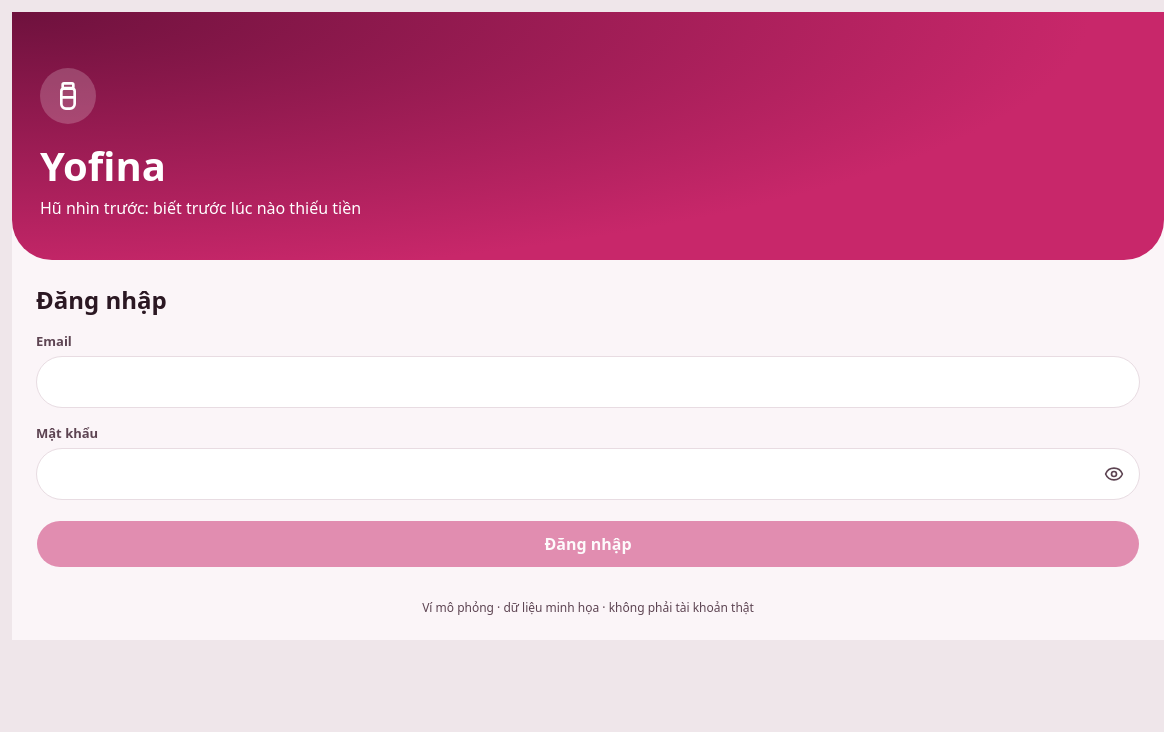
Test case: route guard › đăng nhập xong quay lại trang đã định vào
In the field labelled "Email": point(588, 382) [36,356,1140,408], type "a@example.invalid"
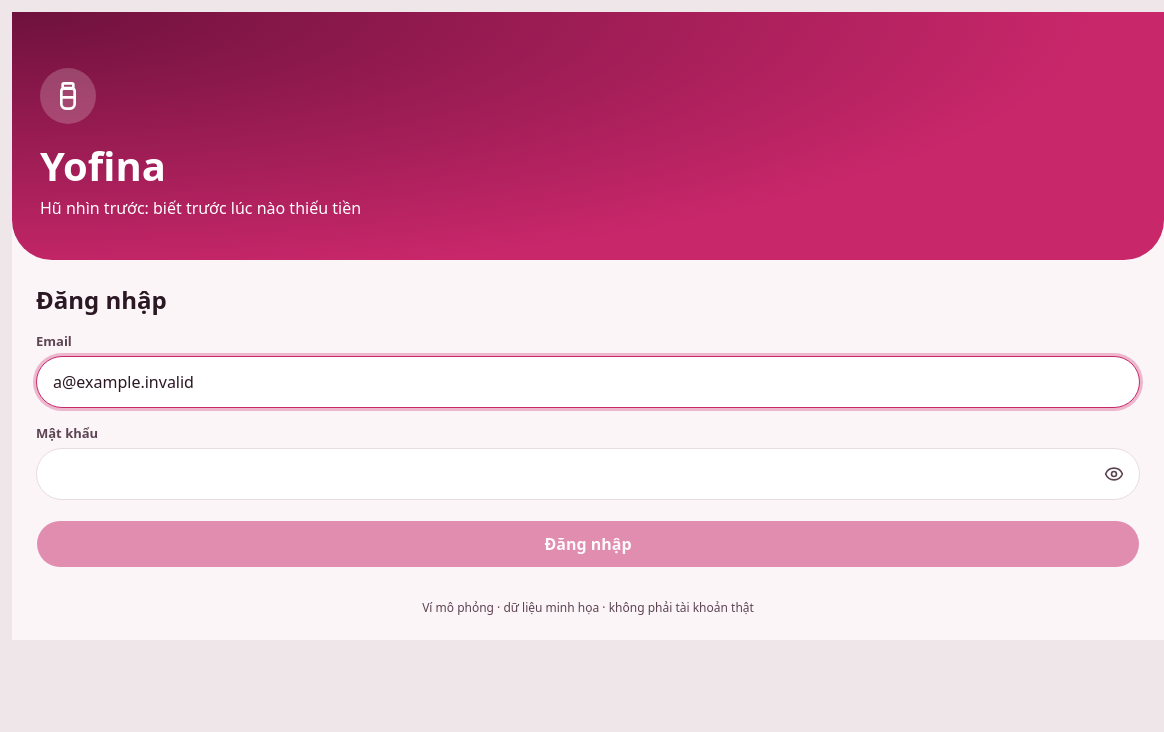
In the password field labelled "Mật khẩu": point(588, 474) [36,448,1140,500], type "mat-khau-test"
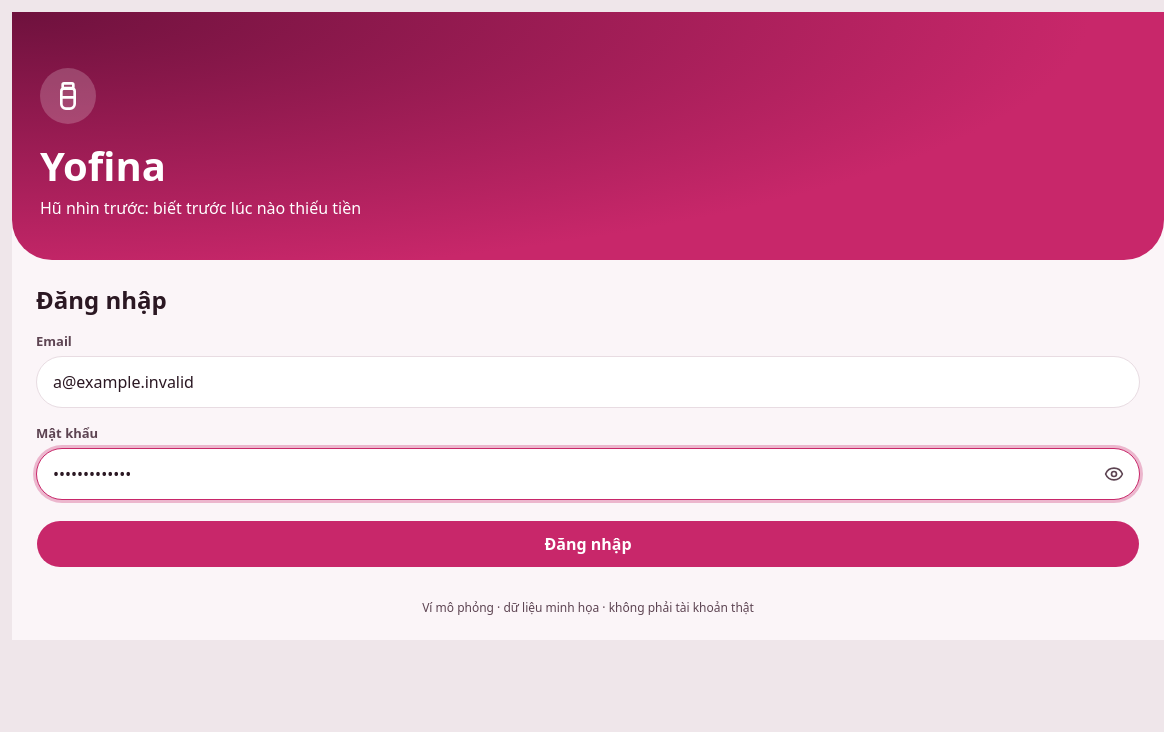
Click the button "Đăng nhập": point(588, 544) [36,520,1140,568]
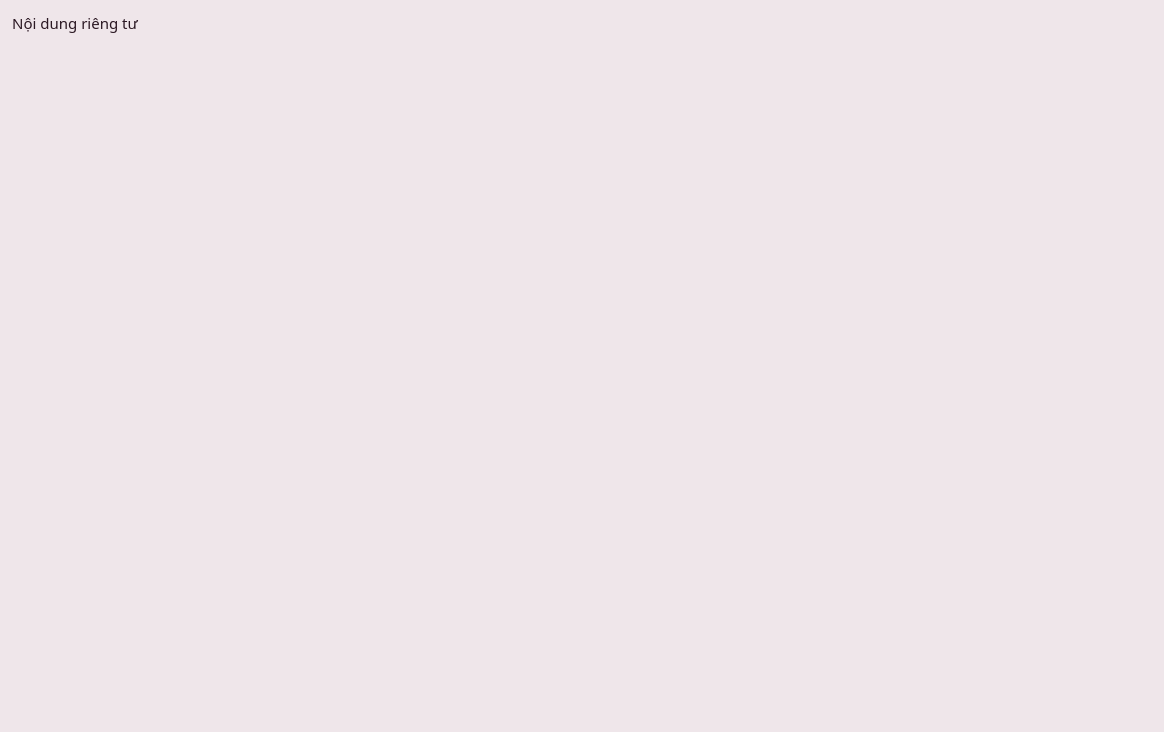
Expected: the text "Nội dung riêng tư" is shown, [12,13,138,33]
